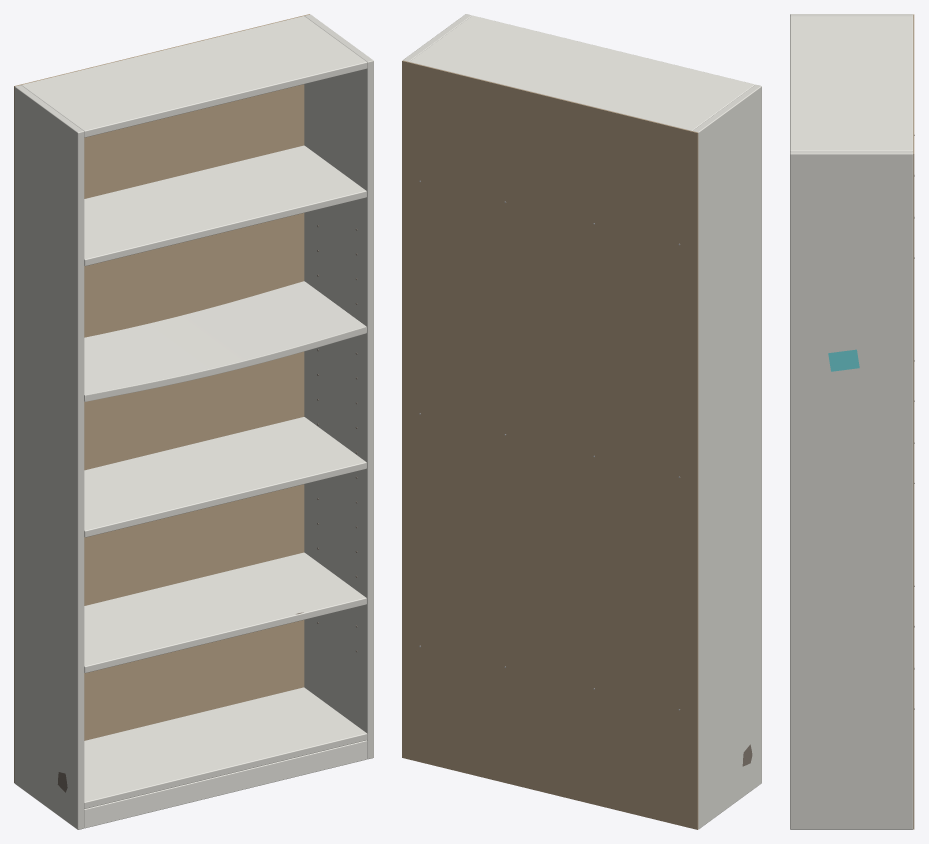
File: furniture_bookcase.fbx
3 views of the same model, side by side, from view 1: azimuth 30°, elevation 25°; view 2: azimuth 150°, elevation 25°; view 3: azimuth 270°, elevation 25° (orthographic). The views are drawn at different scales.
Parts seen in each view (by area): view 1: furniture_bookcase; view 2: furniture_bookcase; view 3: furniture_bookcase.
Part boxes in pixels (left/top/right/bottom): furniture_bookcase: left=14, top=14, right=373, bottom=829; furniture_bookcase: left=402, top=14, right=761, bottom=829; furniture_bookcase: left=790, top=14, right=914, bottom=829.
Size of the model in its own units: 0.8016 by 1.8 by 0.301.
